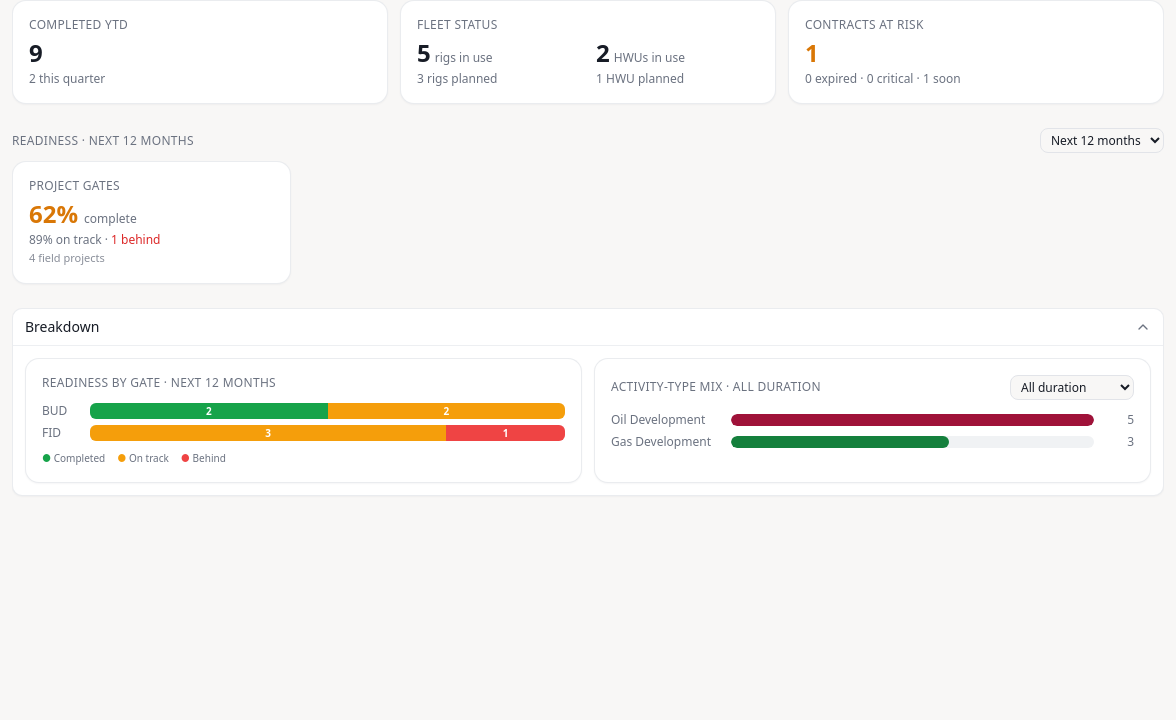
Test: ProjectDashboard › breakdown panel is open by default and collapses/expands from its header
Expected: the text "Readiness by gate · next 12 months" is shown, [42, 374, 276, 390]
Step 1. Click the button "Breakdown" → (62, 326), box [13, 308, 1163, 344]
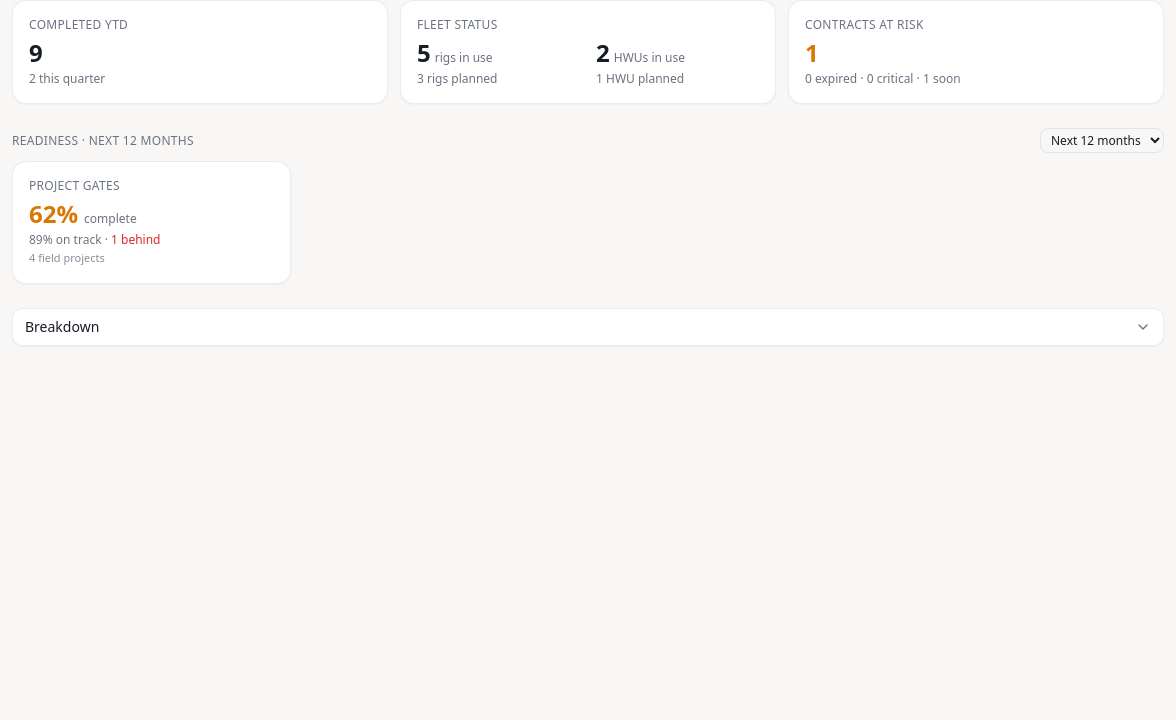
Result: the button "Breakdown" is collapsed
Result: the text "Readiness by gate" is gone
Result: the text "Activity-type mix" is gone
Step 2. Click the button "Breakdown" → (62, 326), box [13, 308, 1163, 344]
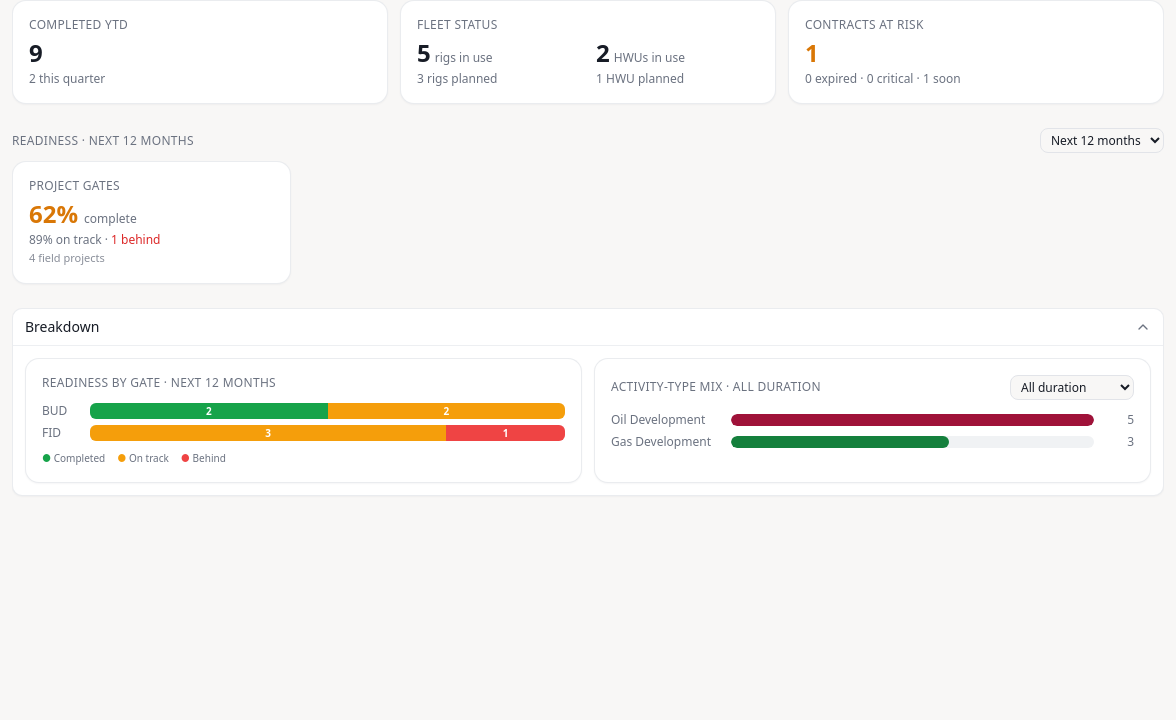
Result: the button "Breakdown" is expanded at [13, 308, 1163, 344]
Result: the text "Readiness by gate · next 12 months" is shown at [42, 374, 276, 390]
